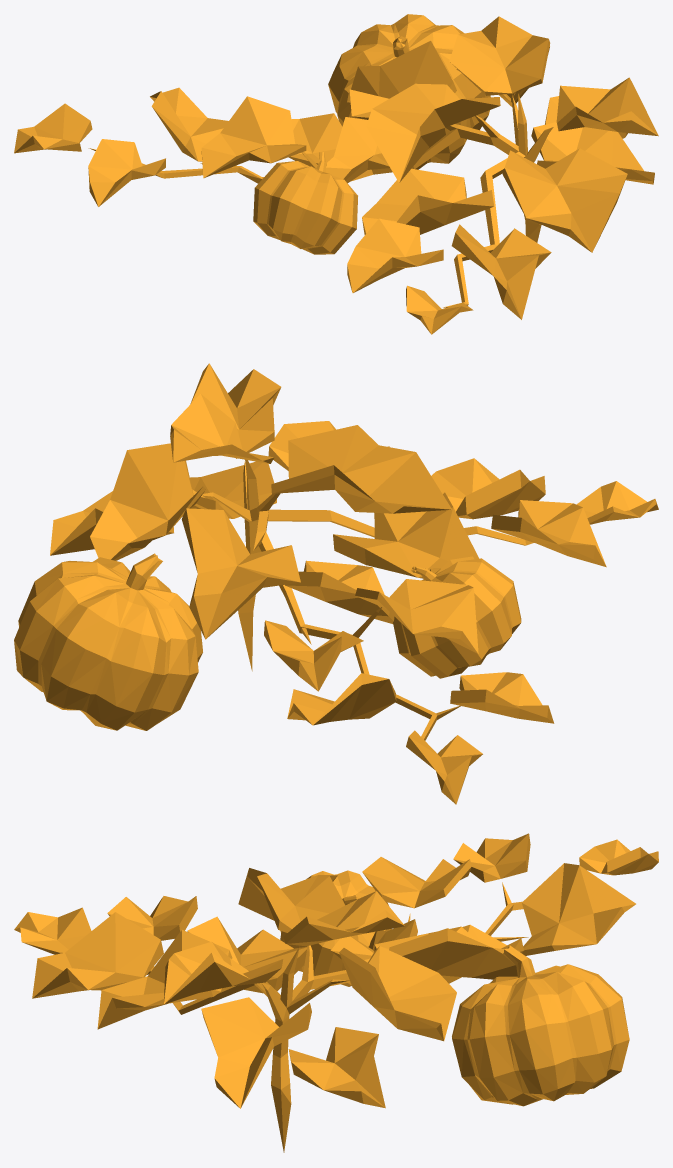
The model's file is SM_Pumpkin_Dead_A.fbx.
3 views of the same model, one above another, from view 1: azimuth 30°, elevation 25°; view 2: azimuth 150°, elevation 25°; view 3: azimuth 270°, elevation 25° (orthographic). The views are drawn at different scales.
Parts seen in each view (by area): view 1: pumpkin-dead-a; view 2: pumpkin-dead-a; view 3: pumpkin-dead-a.
Boxes of the visible parts, left/top/right/bottom form: pumpkin-dead-a: left=14, top=14, right=658, bottom=334; pumpkin-dead-a: left=14, top=363, right=658, bottom=804; pumpkin-dead-a: left=14, top=833, right=658, bottom=1152.
Size of the model in its own units: 1.3 by 0.6157 by 1.41.
